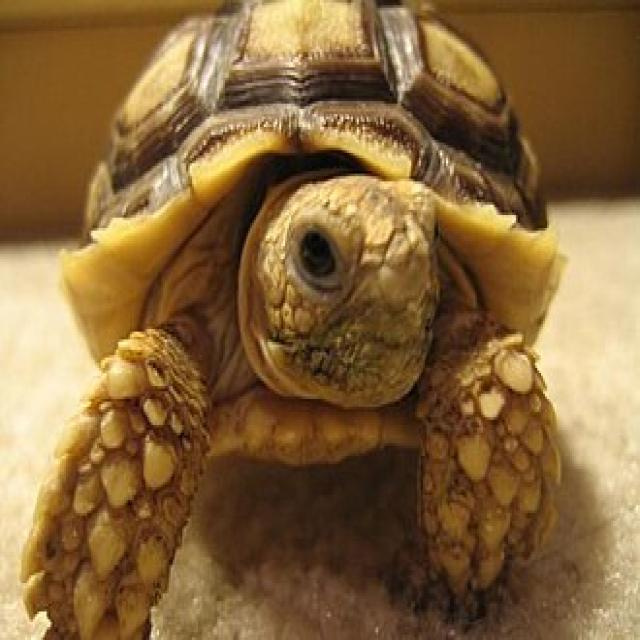tortoise: (58, 0, 640, 395), (9, 329, 205, 640), (235, 172, 444, 422), (422, 316, 572, 620)
